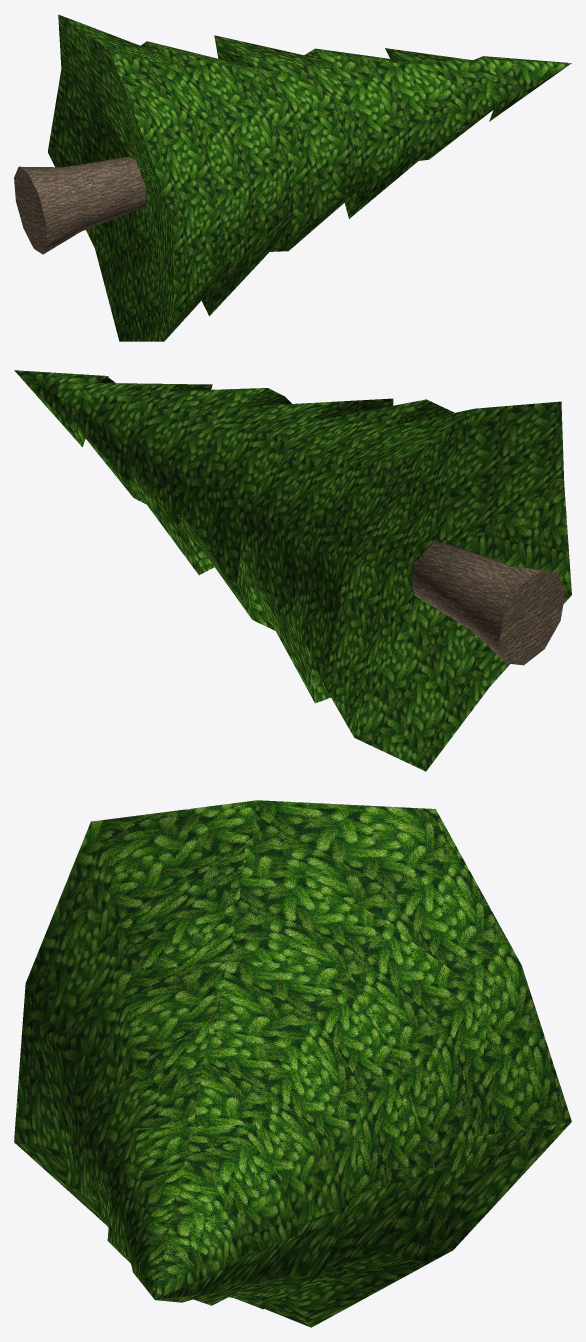
Rendered from treefalls7.obj.
The picture shows the model from 3 angles, top to bottom: view 1: azimuth 30°, elevation 25°; view 2: azimuth 150°, elevation 25°; view 3: azimuth 270°, elevation 25°; orthographic projection. The views are drawn at different scales.
Visible parts, largest first — view 1: Cylinder.002_Cylinder.013, Cylinder.001_Cylinder.012; view 2: Cylinder.002_Cylinder.013, Cylinder.001_Cylinder.012; view 3: Cylinder.002_Cylinder.013.
Boxes of the visible parts, <box> form: Cylinder.002_Cylinder.013: <box>48,14,571,341</box>; Cylinder.001_Cylinder.012: <box>14,156,145,254</box>; Cylinder.002_Cylinder.013: <box>14,370,571,771</box>; Cylinder.001_Cylinder.012: <box>412,542,565,665</box>; Cylinder.002_Cylinder.013: <box>14,800,571,1327</box>.
Size of the model in its own units: 3.84 by 2.25 by 2.25.
